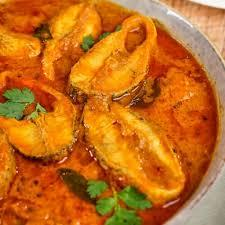Fish Curry: (2, 3, 195, 216)
